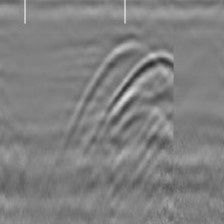Utility: (68, 35, 175, 142)
